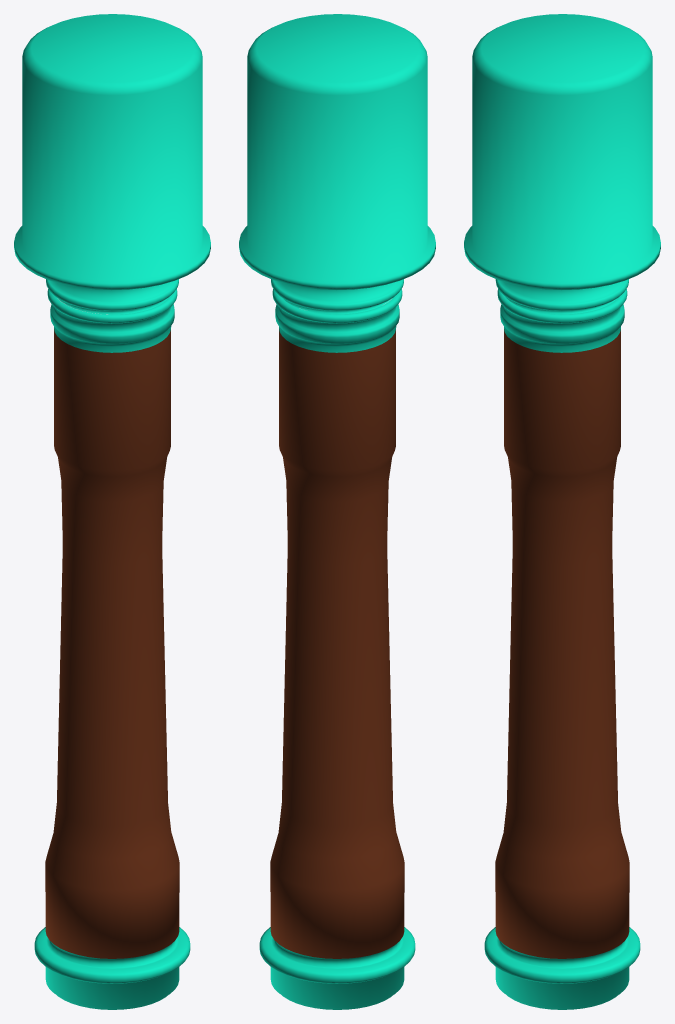
The model's file is stielhandgranate__stielhandgranate.glb.
3 renders of one model, left to right at view 1: azimuth 30°, elevation 25°; view 2: azimuth 150°, elevation 25°; view 3: azimuth 270°, elevation 25°, orthographic.
Visible parts, largest first — view 1: Grenade; view 2: Grenade; view 3: Grenade.
Part boxes in pixels (box(x1,y1,x2,y2)): Grenade: box(14, 14, 210, 1009); Grenade: box(239, 14, 435, 1009); Grenade: box(464, 14, 660, 1009).
Bounding box in the file's own units: 3.81 × 19.99 × 3.81.
